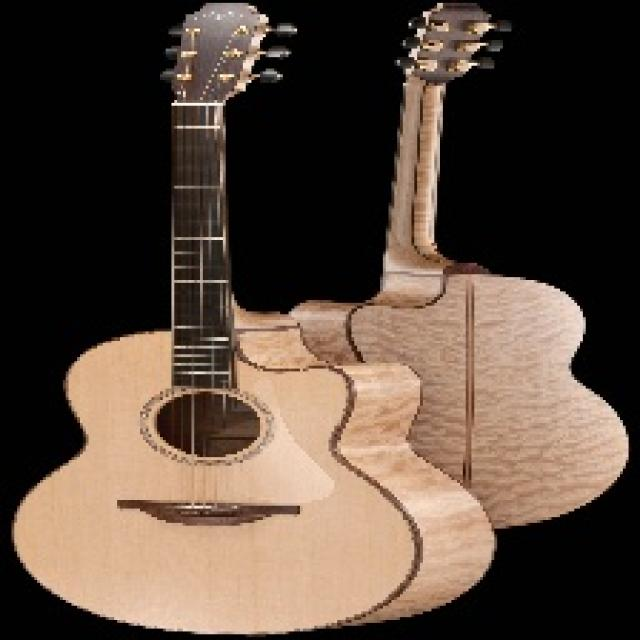guitar: (9, 0, 492, 629), (289, 1, 637, 536)
